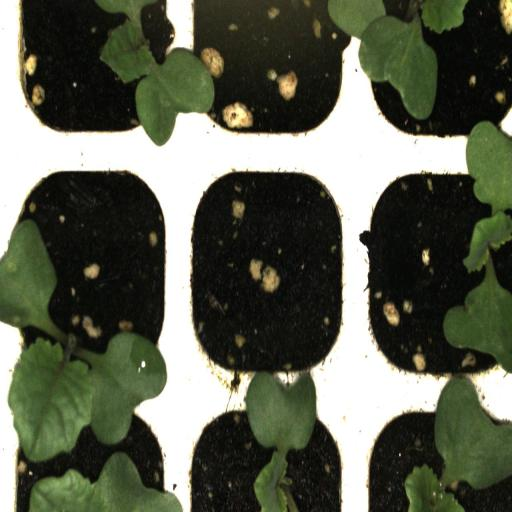Folha: (324, 0, 468, 120)
Germinacao: (2, 152, 177, 404), (357, 152, 512, 386), (0, 0, 179, 151), (176, 388, 356, 512), (356, 385, 512, 512)
